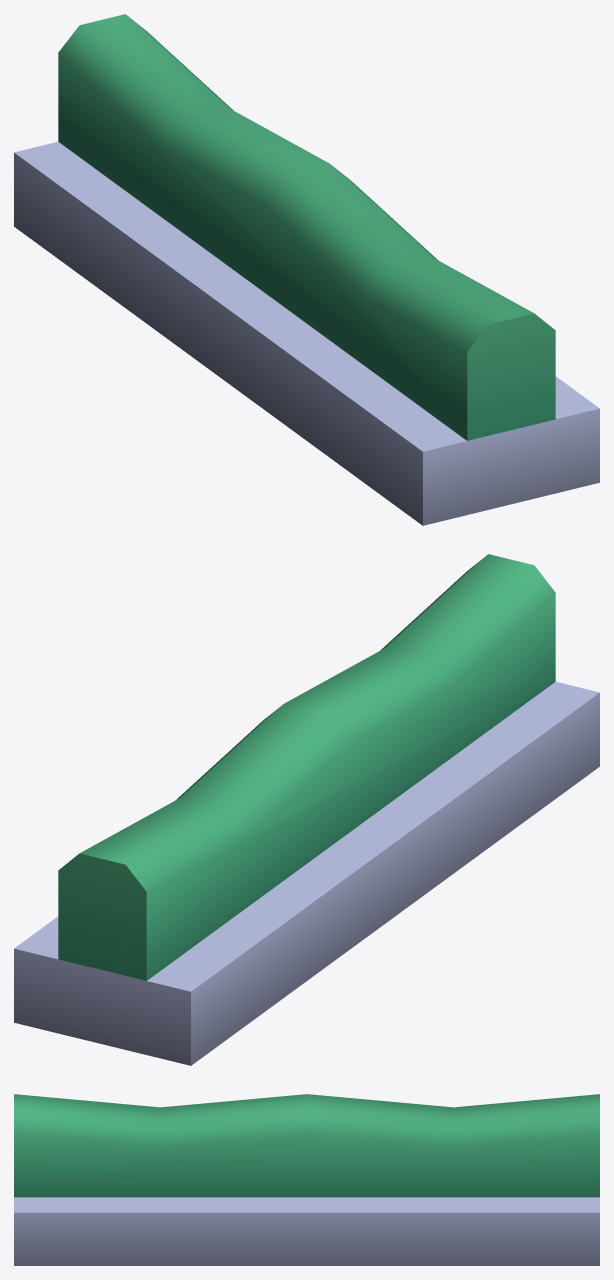
Rendered from hedge.glb.
The picture shows the model from 3 angles, top to bottom: view 1: azimuth 30°, elevation 25°; view 2: azimuth 150°, elevation 25°; view 3: azimuth 270°, elevation 25°; orthographic projection. The views are drawn at different scales.
Parts seen in each view (by area): view 1: hedge; view 2: hedge; view 3: hedge.
Part boxes in pixels (left/top/right/bottom): hedge: left=14, top=14, right=599, bottom=525; hedge: left=14, top=554, right=599, bottom=1065; hedge: left=14, top=1094, right=599, bottom=1265.
Size of the model in its own units: 0.25 by 0.25 by 1.
1 material, 1 textured.
